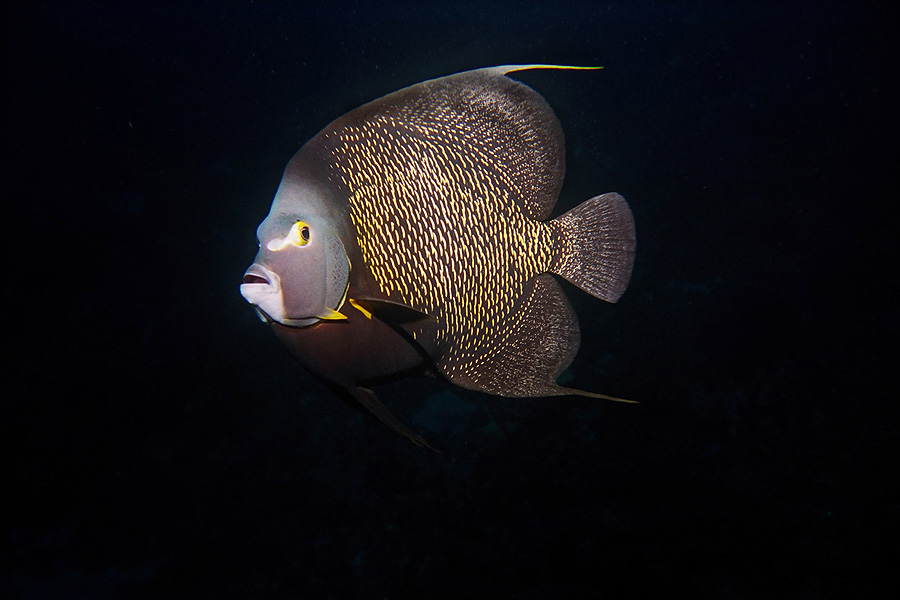Pomacanthus_paru: (211, 63, 673, 453)
